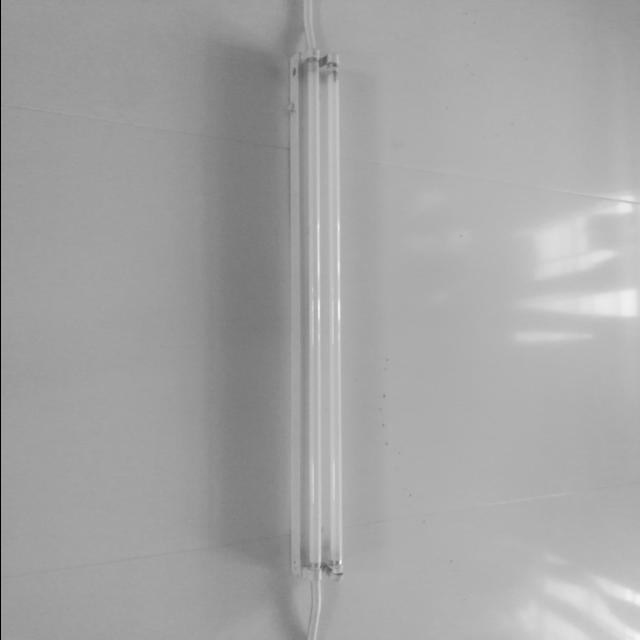light: (286, 48, 344, 580)
